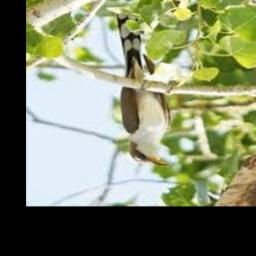Cuckoo: (116, 11, 172, 166)
